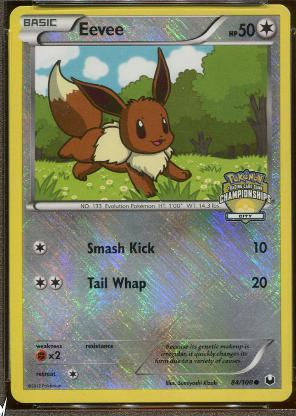Card: (6, 2, 294, 406)
